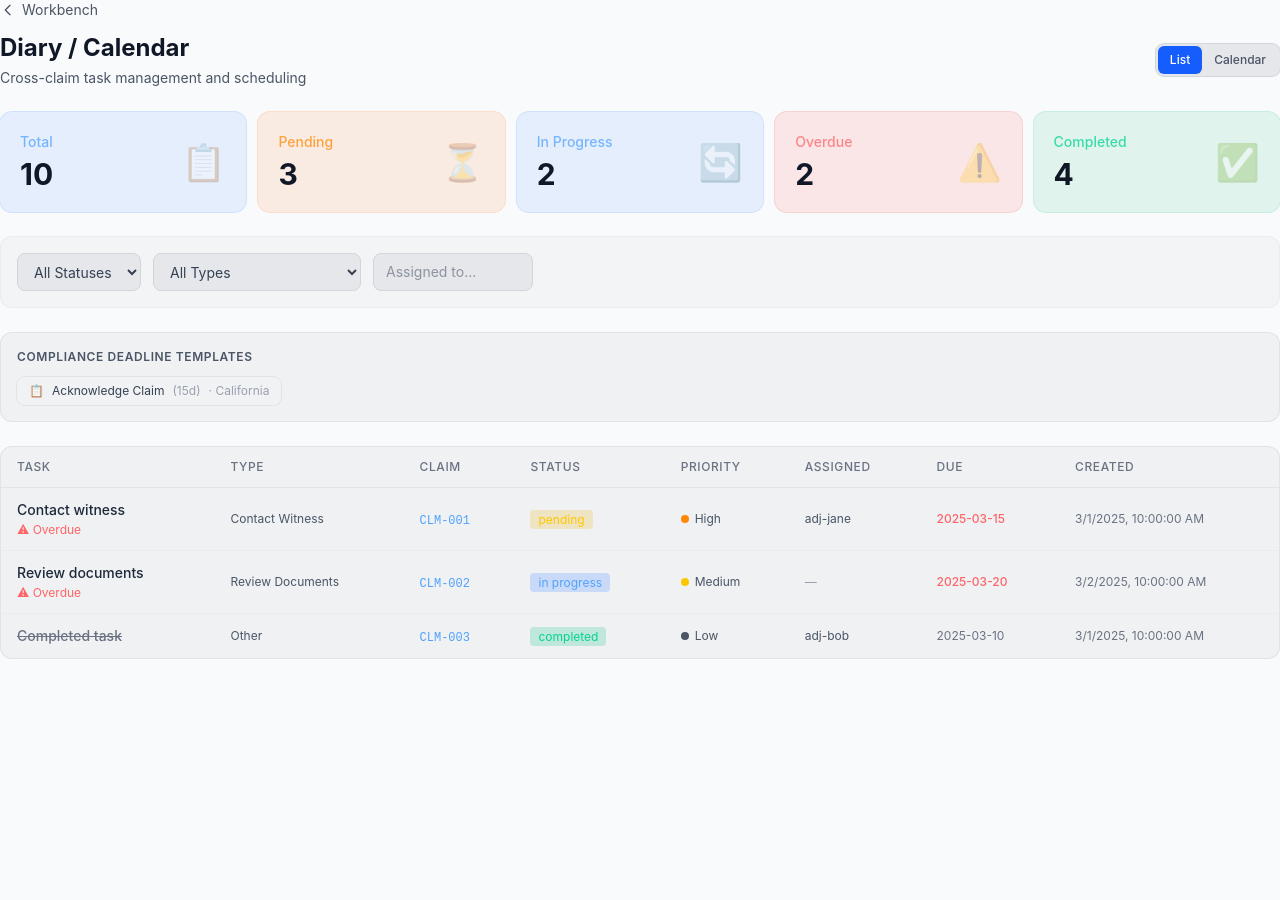
Test: DiaryCalendar › toggles to calendar view
Click the button "Calendar". click: (1240, 60)
box: [1202,46,1278,74]
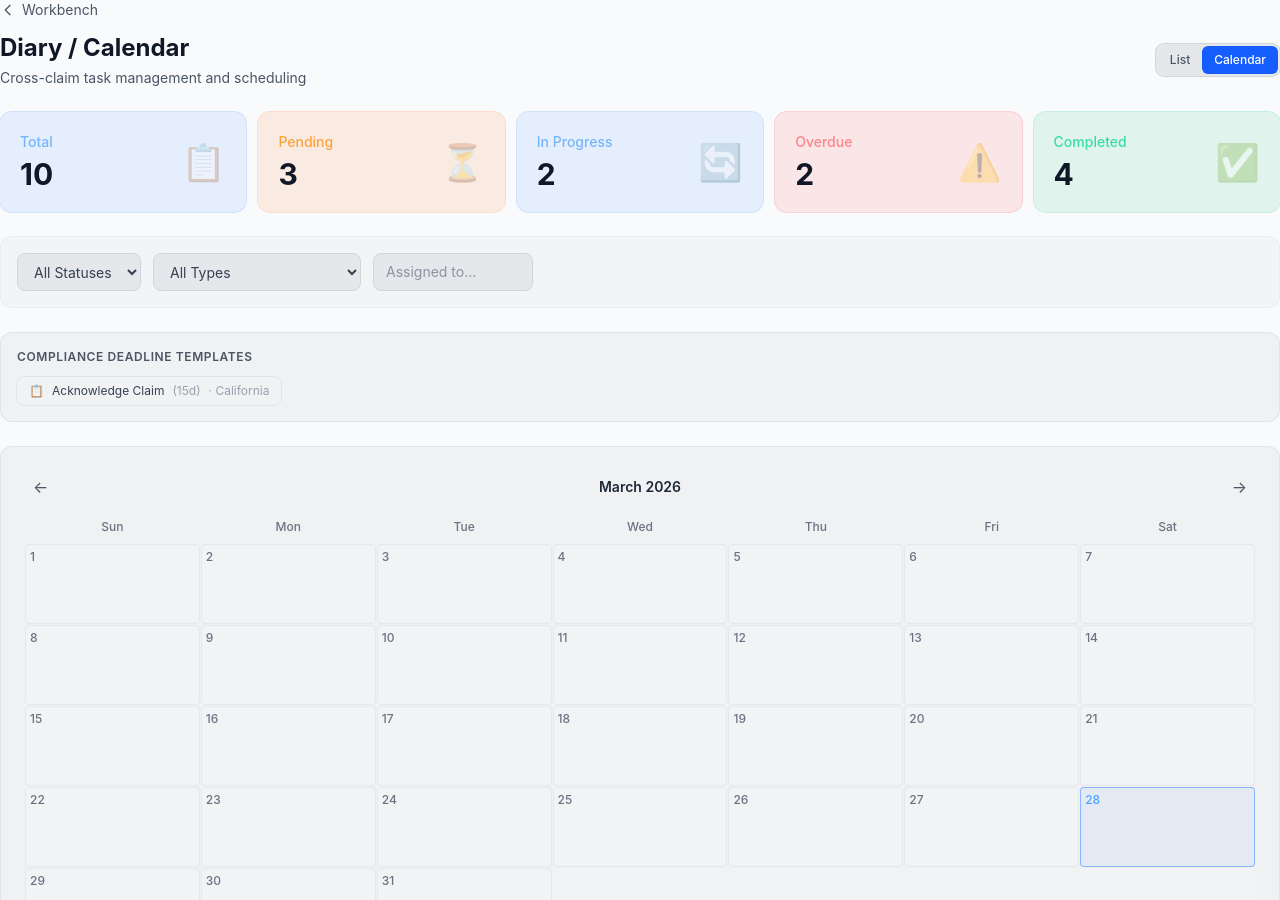
Now the text "Sun" is shown, box [101,519,124,534]
Now the text "Mon" is shown, box [276,519,301,534]
